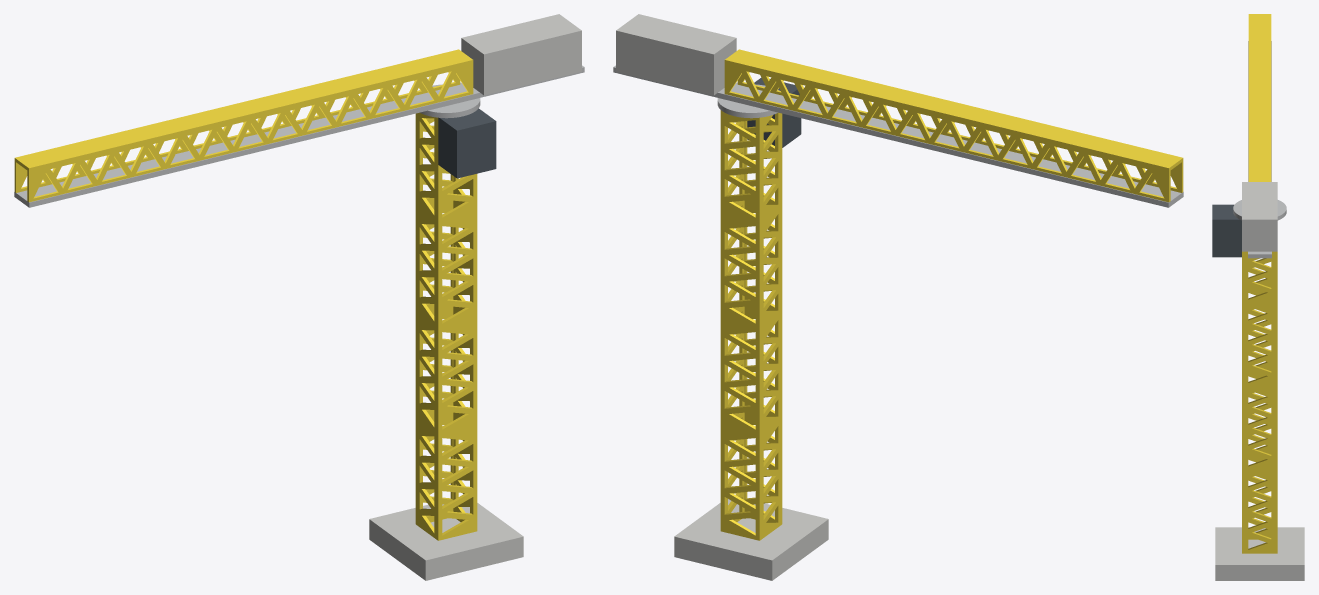
File: tower_crane.glb
The picture shows the model from 3 angles, left to right: view 1: azimuth 30°, elevation 25°; view 2: azimuth 150°, elevation 25°; view 3: azimuth 270°, elevation 25°; orthographic projection. The views are drawn at different scales.
Visible parts, largest first — view 1: jib_truss_s, jib_top_chord, ballast_base, jib_deck, counterweight_b, operator_cab, mast2_s, mast1_s, mast0_s, counterweight_a, jib_truss_n, mast2_w (+7 smaller); view 2: jib_truss_n, jib_top_chord, ballast_base, jib_deck, counterweight_b, mast2_n, mast1_n, mast0_n, mast3_n, counterweight_a, jib_truss_s, mast0_w (+8 smaller); view 3: ballast_base, jib_top_chord, counterweight_a, mast2_e, mast1_e, mast0_e, operator_cab, mast3_e, mast1_w, mast2_w, mast0_w, counterweight_b (+12 smaller).
Part boxes in pixels (x1,y1,x2,y2): jib_truss_s: [27, 63, 473, 202]; jib_top_chord: [14, 49, 473, 171]; ballast_base: [369, 503, 523, 580]; jib_deck: [14, 84, 473, 207]; counterweight_b: [461, 26, 532, 95]; operator_cab: [438, 108, 496, 178]; mast2_s: [436, 213, 477, 328]; mast1_s: [436, 319, 477, 434]; mast0_s: [436, 425, 477, 540]; counterweight_a: [511, 14, 581, 83]; jib_truss_n: [14, 72, 460, 192]; mast2_w: [417, 208, 436, 326]; jib_truss_n: [724, 63, 1170, 202]; jib_top_chord: [724, 49, 1183, 171]; ballast_base: [674, 499, 828, 580]; jib_deck: [724, 84, 1183, 207]; counterweight_b: [665, 26, 736, 95]; mast2_n: [720, 213, 761, 328]; mast1_n: [720, 319, 761, 434]; mast0_n: [720, 425, 761, 540]; mast3_n: [720, 110, 761, 222]; counterweight_a: [616, 14, 686, 83]; jib_truss_s: [737, 72, 1183, 192]; mast0_w: [761, 420, 780, 538]; ballast_base: [1215, 527, 1304, 580]; jib_top_chord: [1248, 14, 1271, 181]; counterweight_a: [1242, 200, 1277, 251]; mast2_e: [1245, 303, 1274, 386]; mast1_e: [1245, 386, 1274, 469]; mast0_e: [1245, 470, 1274, 553]; operator_cab: [1212, 204, 1241, 257]; mast3_e: [1245, 251, 1274, 303]; mast1_w: [1248, 372, 1271, 456]; mast2_w: [1248, 289, 1271, 372]; mast0_w: [1248, 456, 1271, 539]; counterweight_b: [1242, 182, 1277, 200].
Bounding box in the file's own units: 17 × 14.5 × 3.1.
